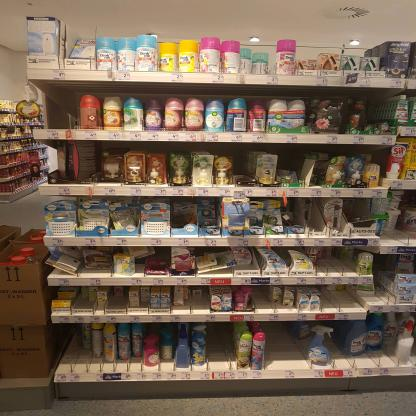Void: (266, 324, 319, 374), (55, 325, 81, 362), (316, 251, 354, 276), (207, 328, 232, 366), (4, 204, 40, 228), (363, 94, 390, 122), (374, 252, 390, 298), (51, 91, 69, 130), (173, 205, 196, 231), (322, 289, 355, 307), (233, 143, 247, 172), (282, 146, 298, 170), (254, 288, 267, 308), (348, 201, 363, 214)
